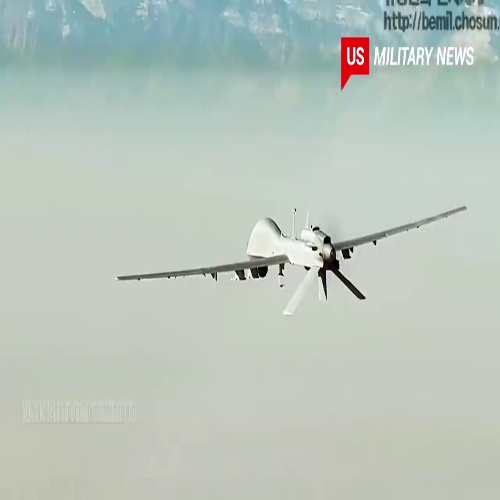uav: (116, 205, 468, 308)
